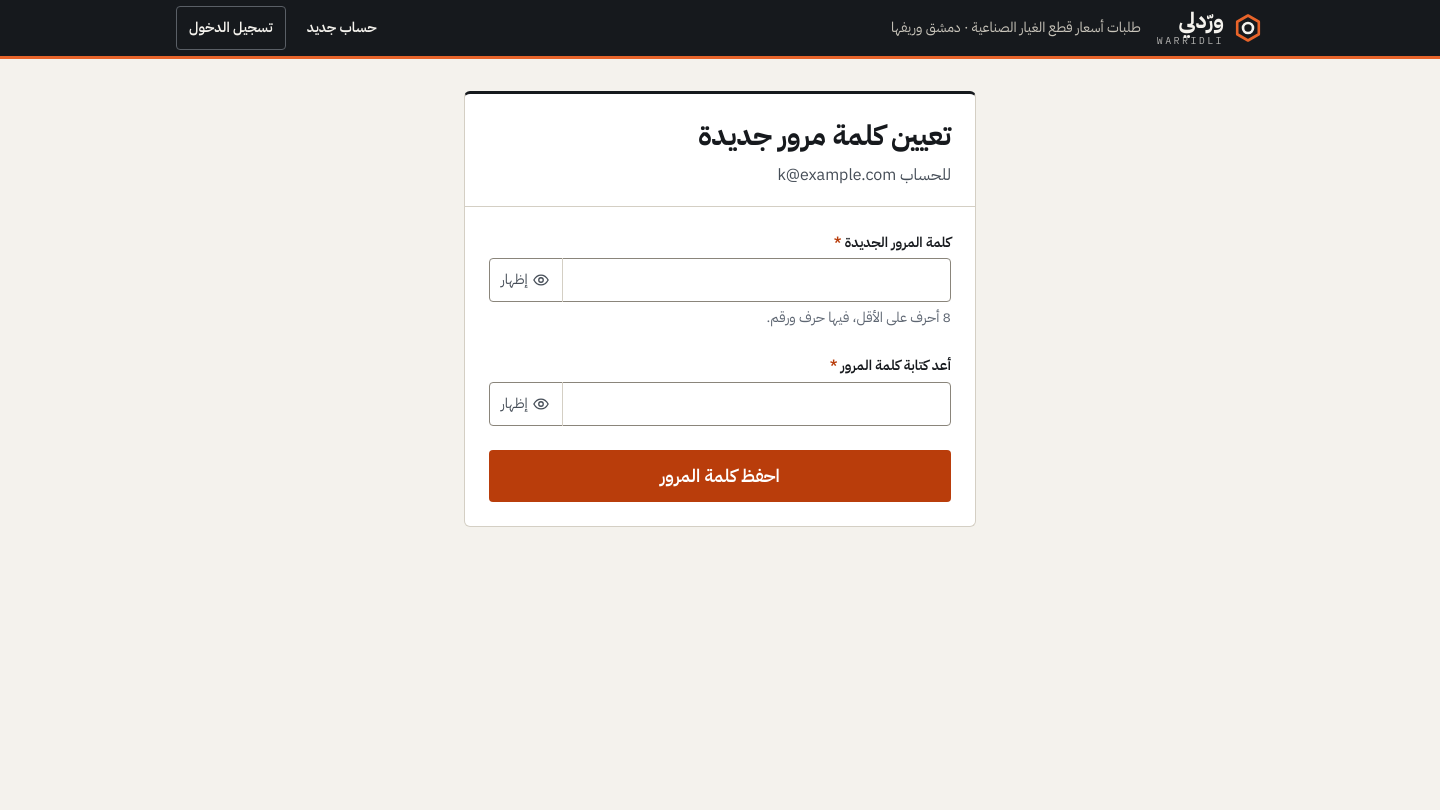
password reset error guidance › focuses an error summary and clears corrected errors without moving focus from the field
Click the button "احفظ كلمة المرور" at (720, 476), box [489, 450, 951, 502]
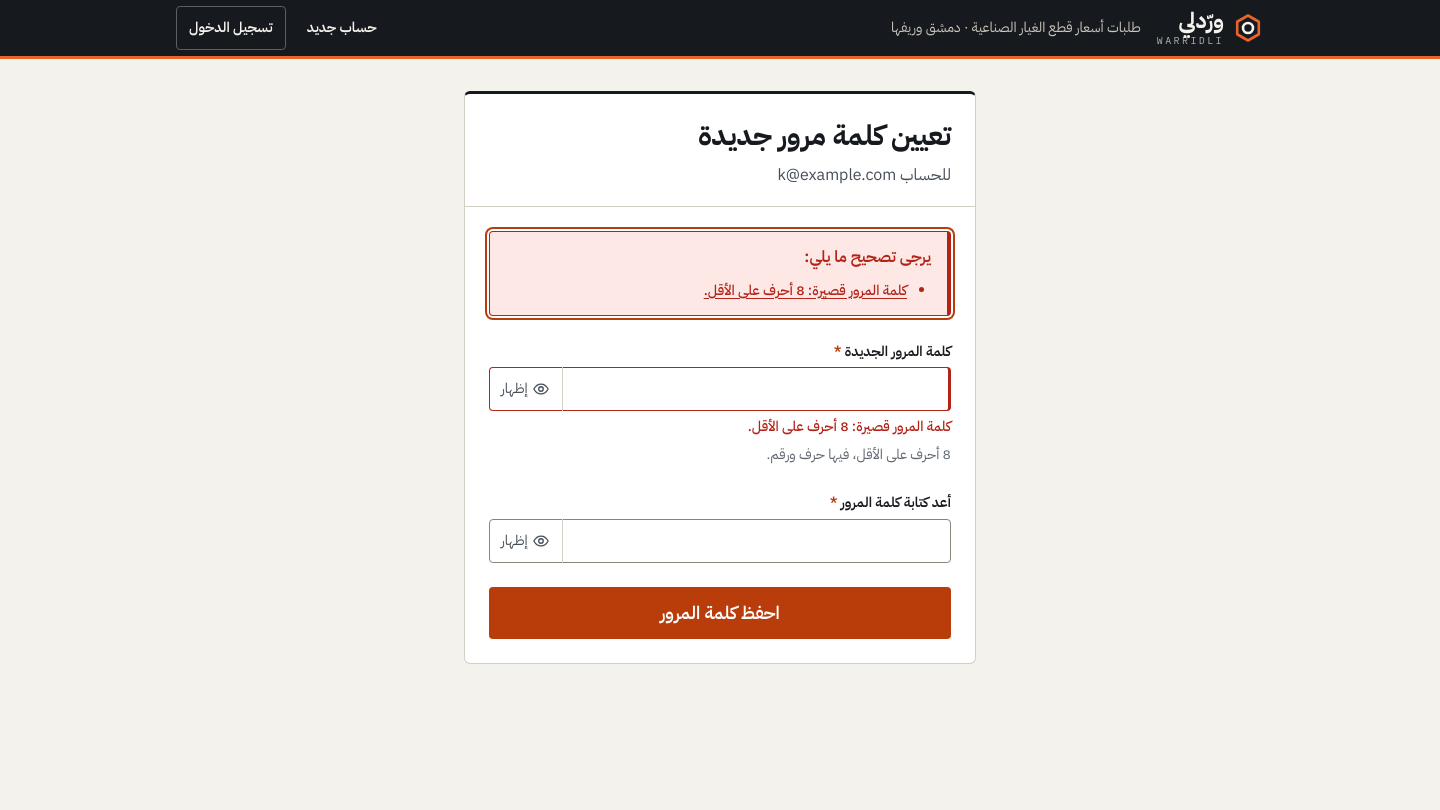
Click the link "كلمة المرور قصيرة: 8 أحرف على الأقل." at (750, 290), box [704, 280, 907, 301]
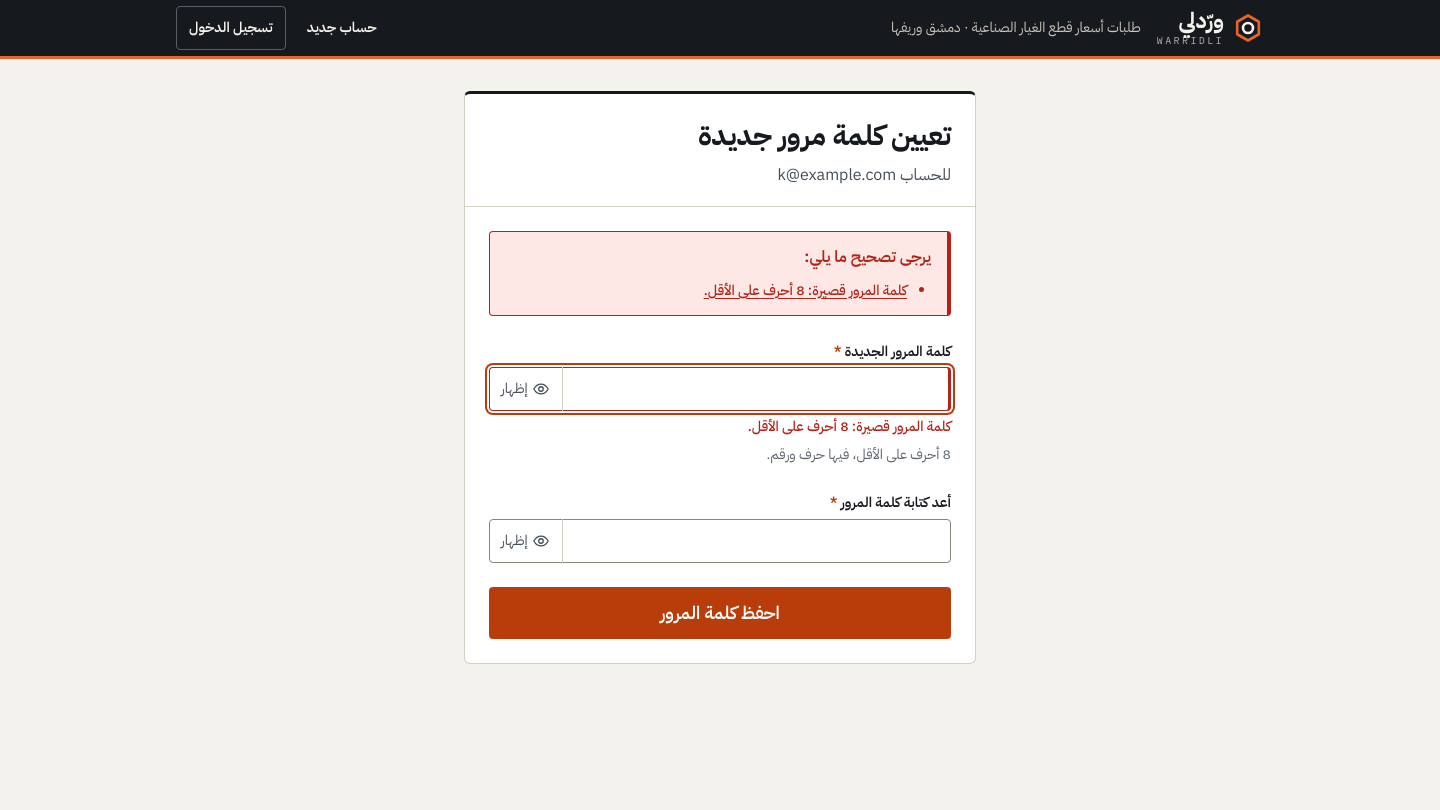
Type "safe-password1" into the password field labelled "كلمة المرور الجديدة *" at (720, 389), box [489, 367, 951, 411]
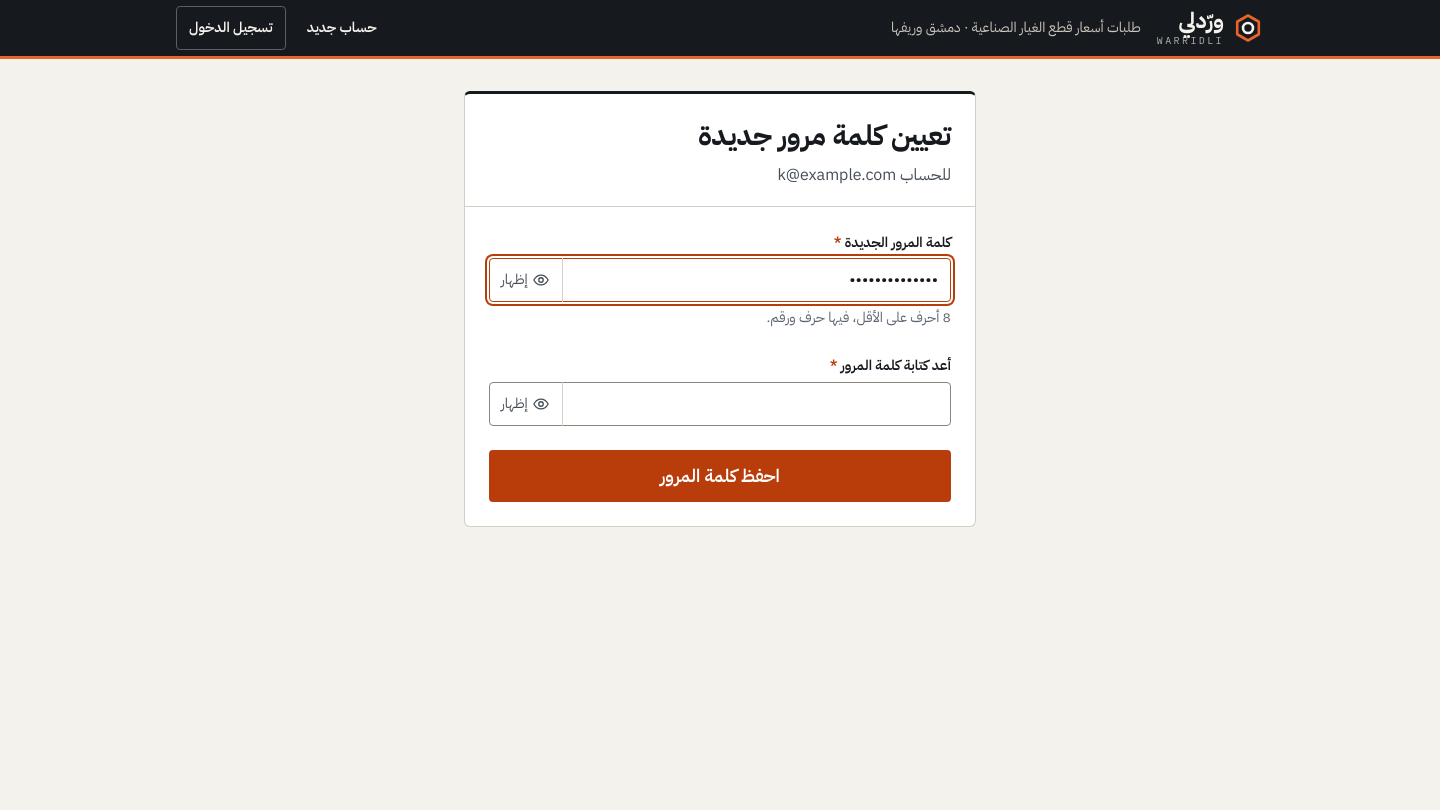
Expected: the message "يرجى تصحيح ما يلي: كلمة المرور قصيرة: 8 أحرف على الأقل." is gone
